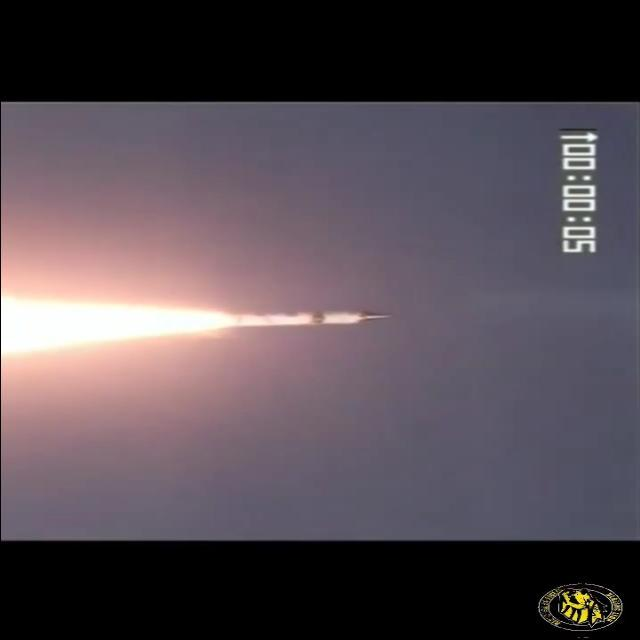Missile: (210, 306, 400, 332)
